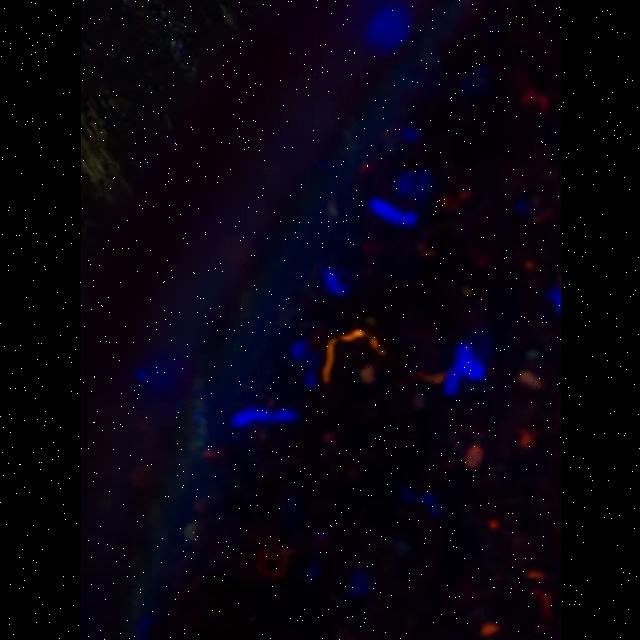Fragment: (518, 88, 548, 114)
